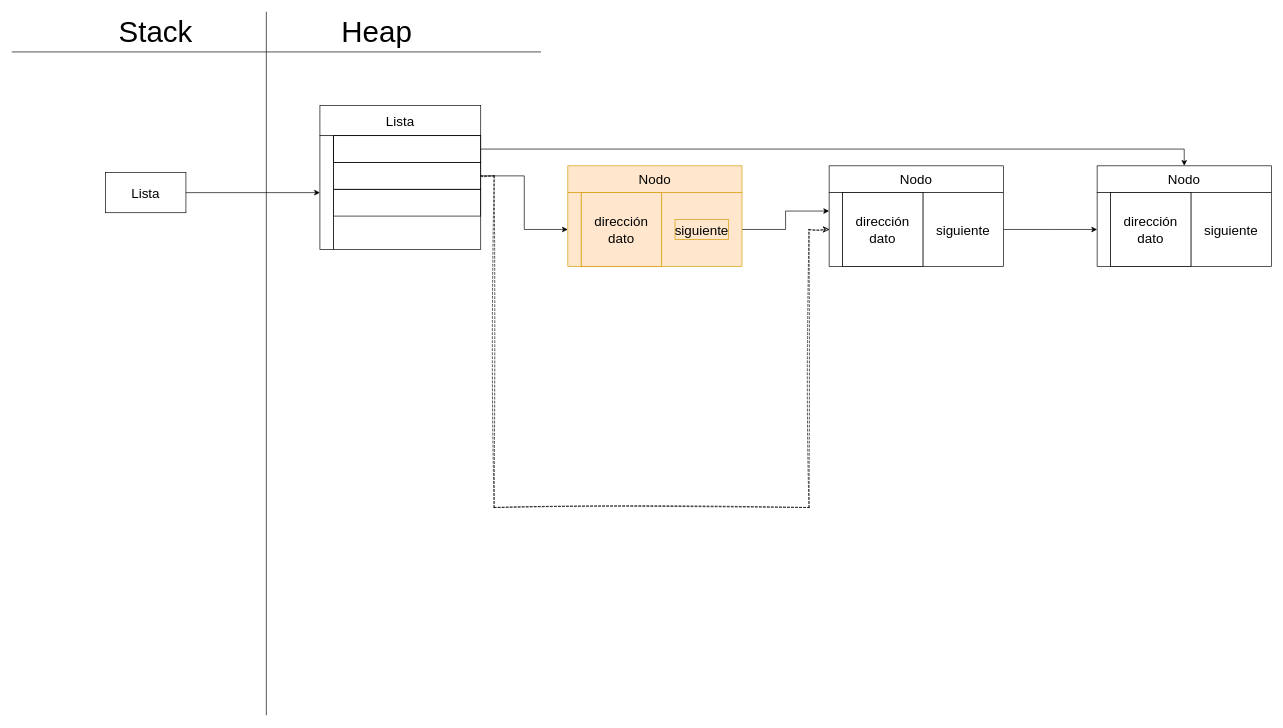
This 1283x728 diagram has some shape labels left out. Each missing label, with the centre of its shape:
cantidad: the point at 407,202
final: the point at 407,148
principio: the point at 407,175
